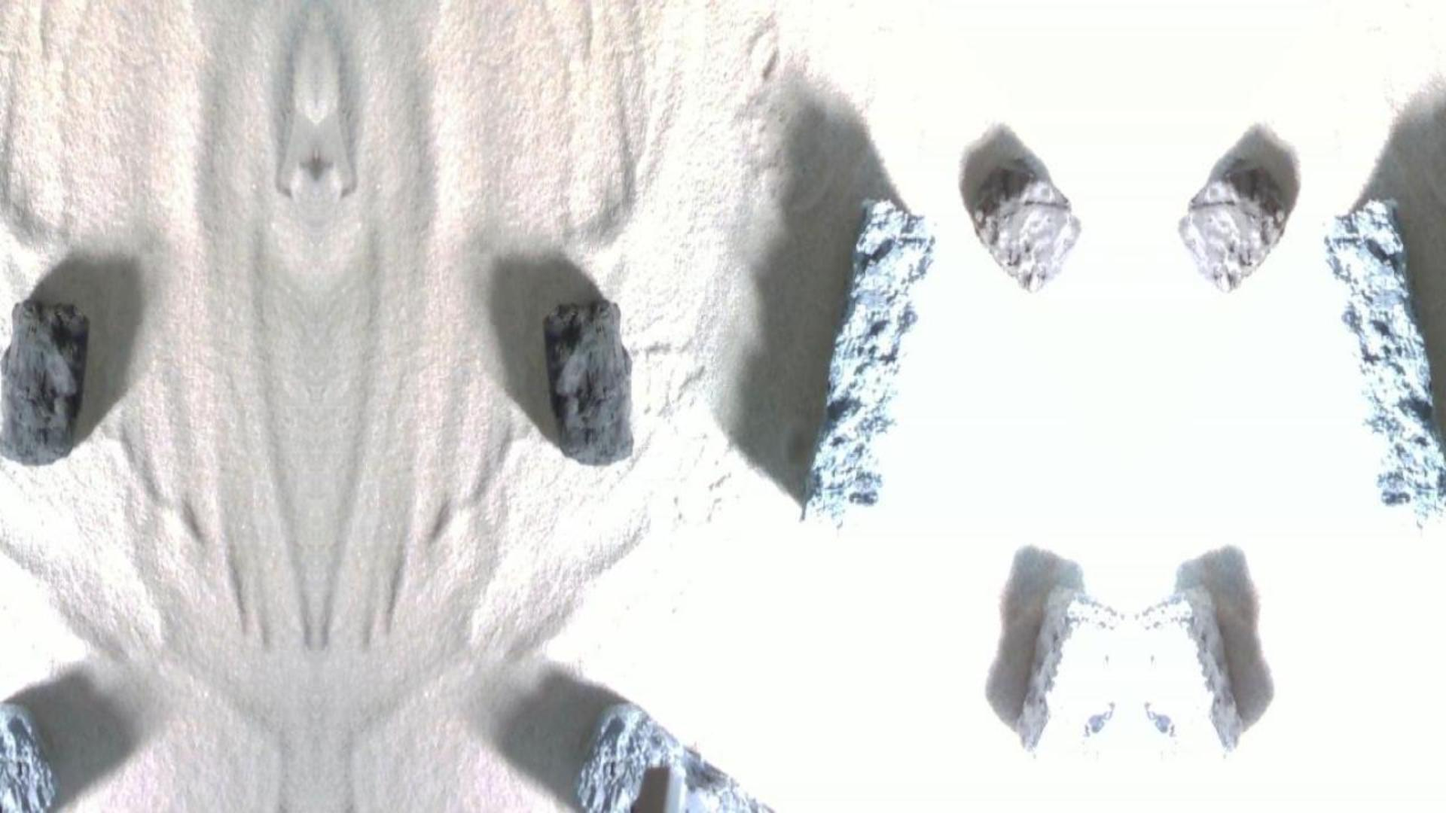rock: (803, 200, 934, 524), (1325, 200, 1445, 521), (574, 702, 770, 812), (1133, 585, 1245, 751), (1016, 585, 1124, 751), (0, 298, 87, 464), (545, 298, 631, 464), (1178, 169, 1287, 290), (974, 174, 1080, 290), (0, 703, 56, 812), (1132, 742, 1138, 748), (1123, 742, 1126, 749), (1120, 724, 1124, 727), (1136, 724, 1140, 727)
